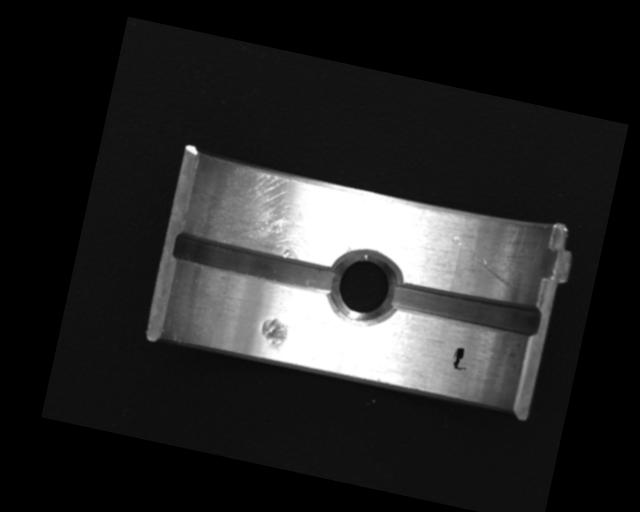blot: (449, 345, 471, 372)
bruise: (256, 315, 290, 354)
gap: (169, 229, 342, 297), (391, 278, 542, 339)
hole: (325, 244, 409, 331)
nick: (443, 234, 525, 291)
scratch: (189, 154, 354, 268)
